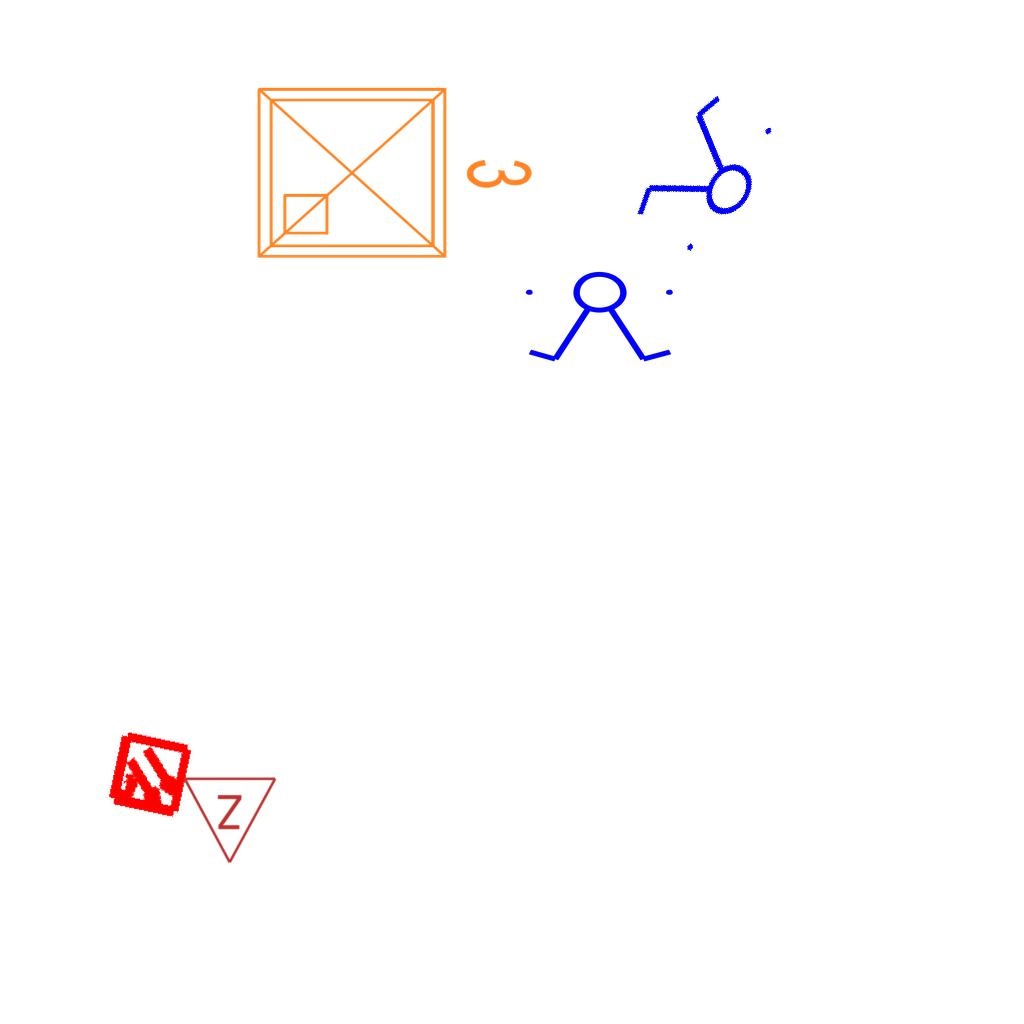Einbaudownlights_LED_Konferenzraeume: (243, 65, 543, 273)
OT_Multisensormelder_(Kombination_RMO_WMD): (82, 709, 217, 844)
Serienschalter: (620, 79, 794, 273), (517, 270, 685, 366)
Zimmersignalleuchte: (182, 770, 280, 870)
